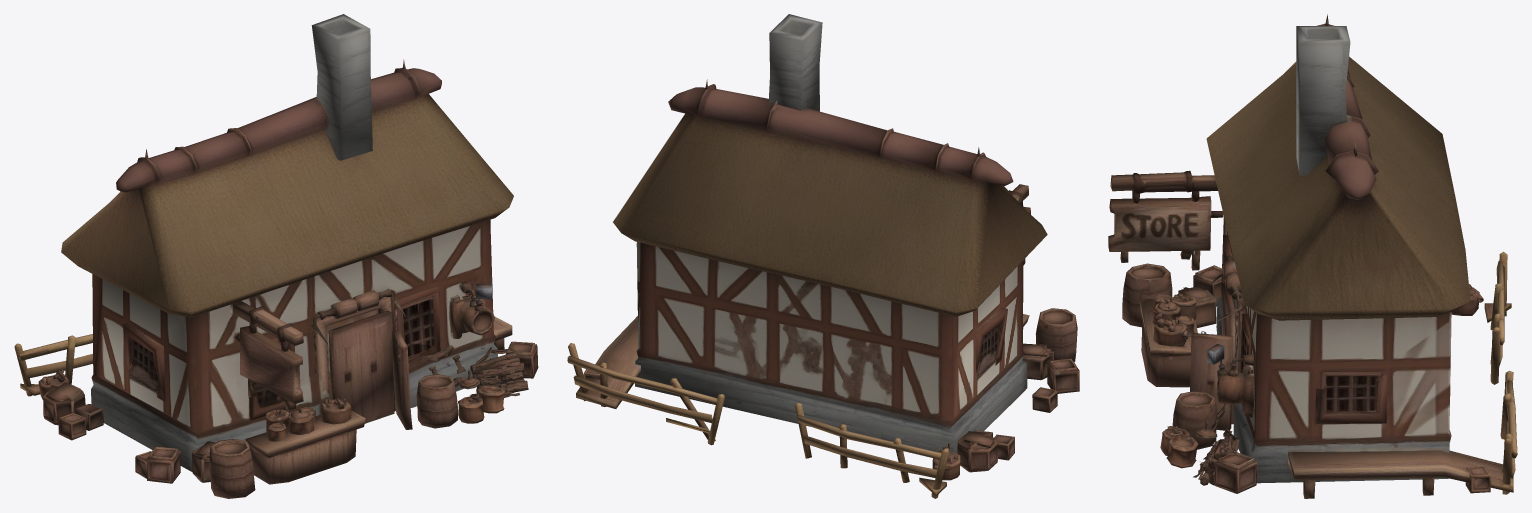
Rendered from general-store.glb.
3 renders of one model, left to right at view 1: azimuth 30°, elevation 25°; view 2: azimuth 150°, elevation 25°; view 3: azimuth 270°, elevation 25°, orthographic. The views are drawn at different scales.
Visible parts, largest first — view 1: tripo_node_e2bece4e-cc38-41d0-979c-e4382ce341d9; view 2: tripo_node_e2bece4e-cc38-41d0-979c-e4382ce341d9; view 3: tripo_node_e2bece4e-cc38-41d0-979c-e4382ce341d9.
Part boxes in pixels (x1,y1,x2,y2): tripo_node_e2bece4e-cc38-41d0-979c-e4382ce341d9: (14,14,538,498); tripo_node_e2bece4e-cc38-41d0-979c-e4382ce341d9: (567,14,1079,498); tripo_node_e2bece4e-cc38-41d0-979c-e4382ce341d9: (1108,14,1517,498).
Size of the model in its own units: 3.43 by 3 by 2.74.
Materials: 1 (1 with a texture image).
